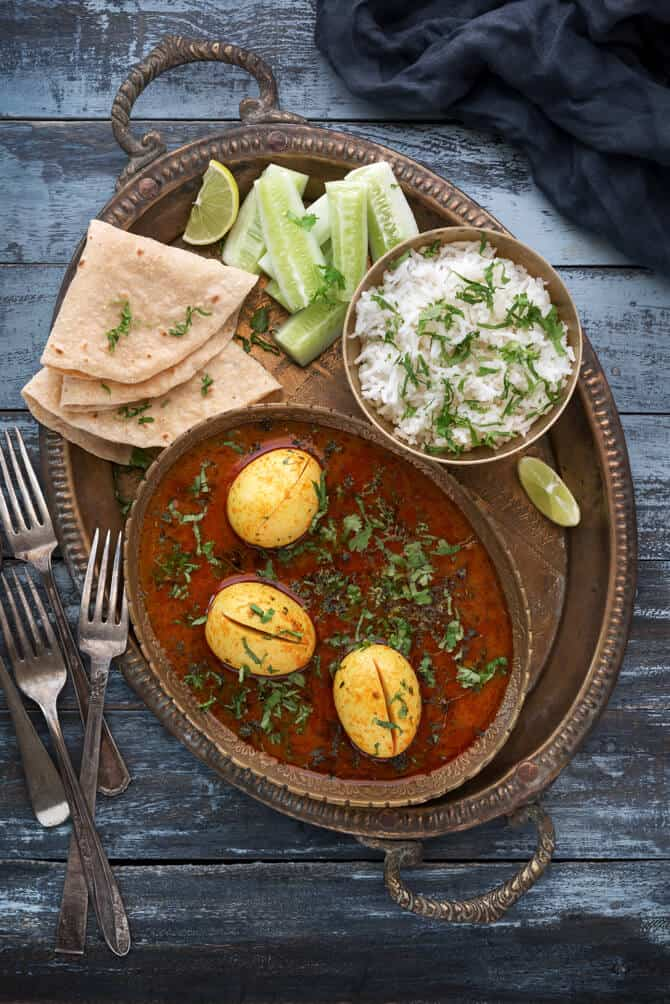curry: (163, 428, 523, 788)
egg: (218, 444, 338, 551), (204, 575, 324, 682), (322, 649, 442, 756)
rice: (365, 246, 560, 432)
roti: (27, 211, 283, 458)
